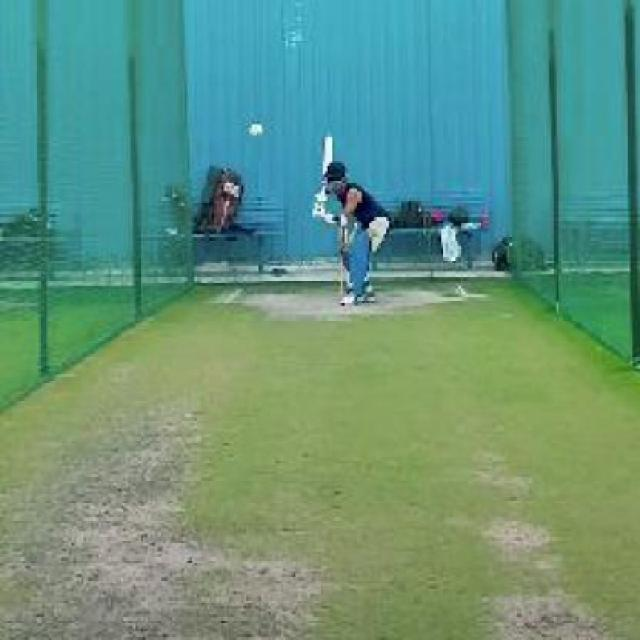ball: (248, 119, 270, 141)
